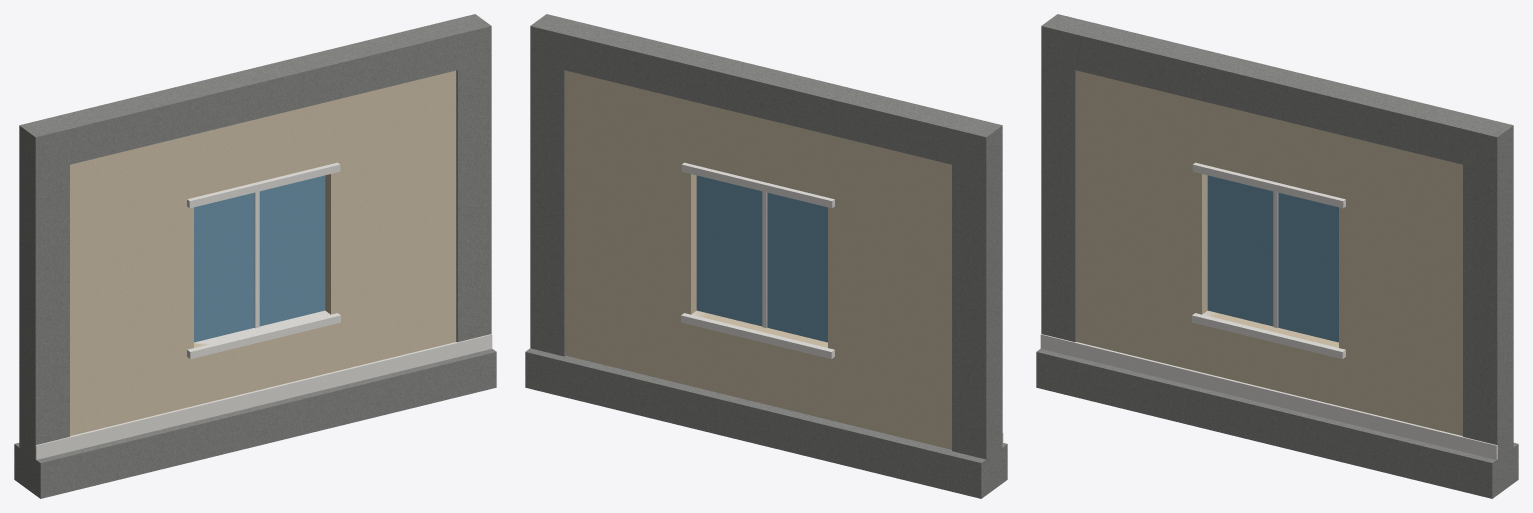
Rendered from estate_wall_window_5f.glb.
3 renders of one model, left to right at view 1: azimuth 30°, elevation 25°; view 2: azimuth 150°, elevation 25°; view 3: azimuth 330°, elevation 25°, orthographic.
Parts seen in each view (by area): view 1: Cube.004, Cube.003, Cube, Cube.008, Cube.001, Cube.002, Cube.005, Cube.006, Cube.007, Cube.009; view 2: Cube.004, Cube.003, Cube, Cube.008, Cube.001, Cube.002, Cube.006, Cube.007, Cube.009; view 3: Cube.004, Cube.003, Cube, Cube.008, Cube.002, Cube.001, Cube.005, Cube.006, Cube.007, Cube.009.
Part boxes in pixels (box(x1,y1,x2,y2)): Cube.004: box(70, 70, 456, 435); Cube.003: box(19, 14, 491, 172); Cube: box(14, 349, 496, 498); Cube.008: box(194, 175, 325, 342); Cube.001: box(19, 161, 69, 459); Cube.002: box(456, 62, 491, 342); Cube.005: box(35, 334, 492, 459); Cube.006: box(187, 310, 340, 359); Cube.007: box(187, 162, 340, 208); Cube.009: box(254, 191, 259, 328); Cube.004: box(565, 70, 951, 449); Cube.003: box(530, 14, 1002, 172); Cube: box(525, 348, 1007, 498); Cube.008: box(696, 175, 827, 342); Cube.001: box(952, 161, 1002, 459); Cube.002: box(530, 62, 565, 356); Cube.006: box(681, 310, 834, 359); Cube.007: box(681, 162, 834, 208); Cube.009: box(762, 191, 767, 328); Cube.004: box(1076, 70, 1462, 435); Cube.003: box(1041, 14, 1513, 172); Cube: box(1036, 349, 1518, 498); Cube.008: box(1207, 175, 1338, 342); Cube.002: box(1463, 161, 1513, 458); Cube.001: box(1041, 62, 1076, 342); Cube.005: box(1040, 334, 1497, 459); Cube.006: box(1192, 311, 1345, 359); Cube.007: box(1192, 162, 1345, 208); Cube.009: box(1273, 191, 1278, 328).
Bounding box in the file's own units: 4 × 3 × 0.4.
4 materials, 4 textured.
